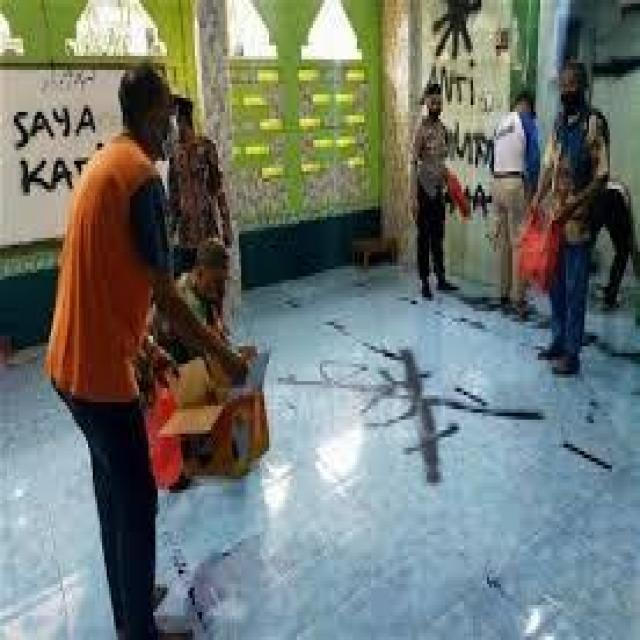nonspitting: (276, 339, 544, 486), (419, 63, 496, 221), (14, 98, 105, 192), (431, 0, 482, 62)
